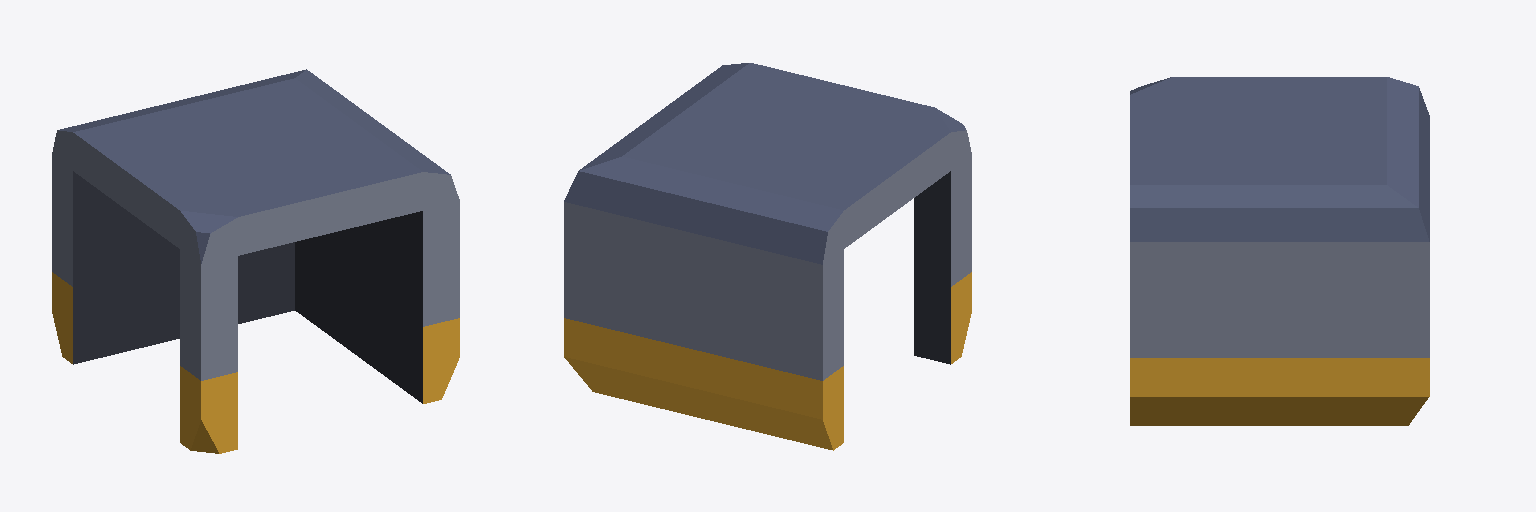
File: cover-stripe-corner.obj
The picture shows the model from 3 angles: view 1: azimuth 30°, elevation 25°; view 2: azimuth 150°, elevation 25°; view 3: azimuth 270°, elevation 25°; orthographic projection.
Parts seen in each view (by area): view 1: cover-stripe-corner; view 2: cover-stripe-corner; view 3: cover-stripe-corner.
Boxes of the visible parts, x1,y1,x2,y2 form: cover-stripe-corner: [52, 69, 459, 453]; cover-stripe-corner: [564, 63, 971, 450]; cover-stripe-corner: [1130, 77, 1429, 425].
Size of the model in its own units: 1.4 by 1.2 by 1.4.